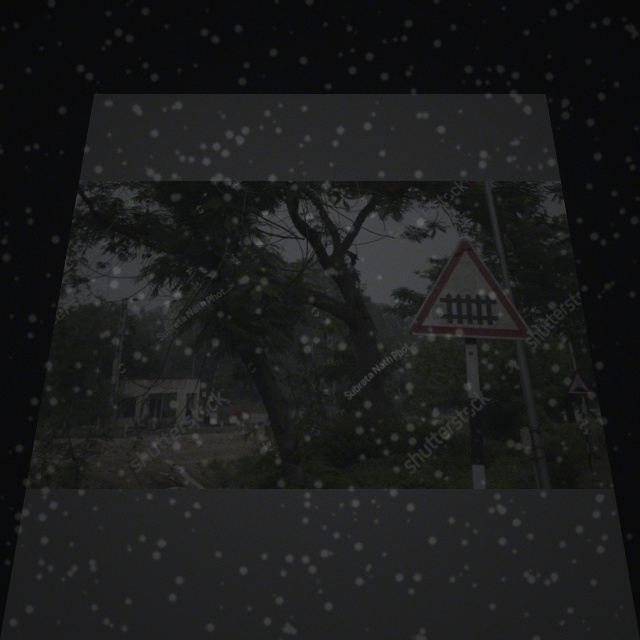Guarded_Level_Crossing: (407, 236, 530, 340)
